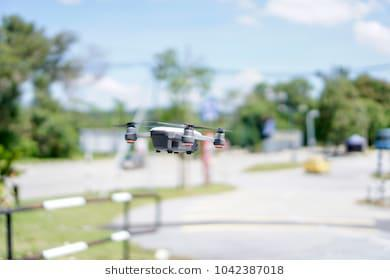drone: (121, 119, 231, 158)
